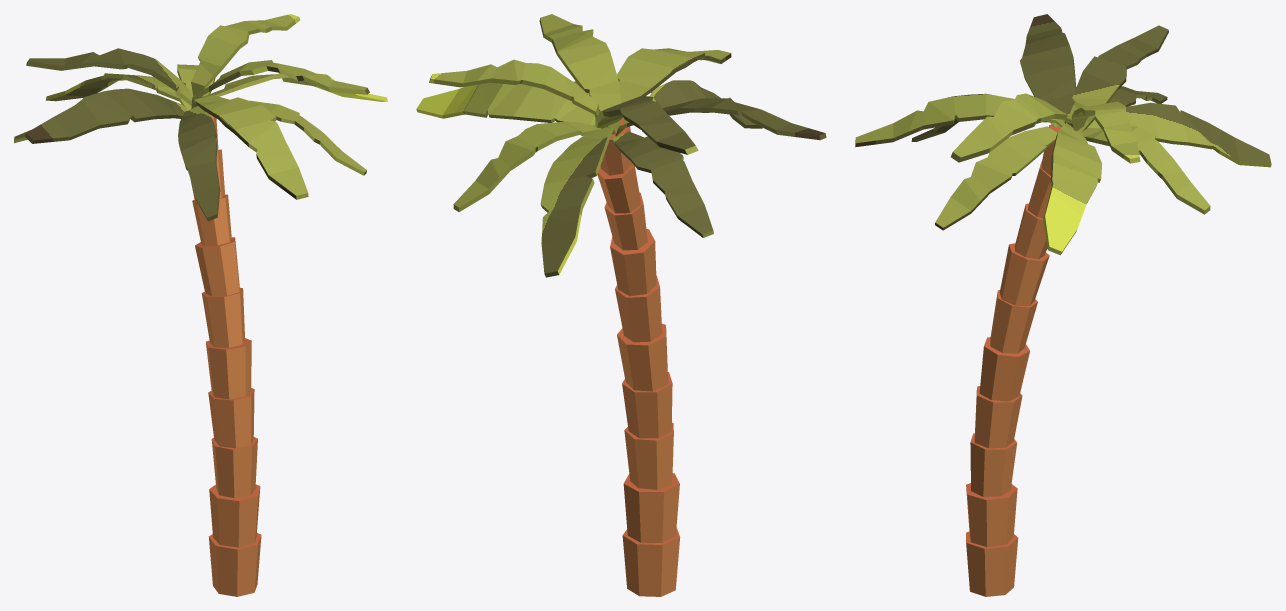
The model's file is Palm Tree 1.fbx.
3 renders of one model, left to right at view 1: azimuth 30°, elevation 25°; view 2: azimuth 150°, elevation 25°; view 3: azimuth 270°, elevation 25°, orthographic. The views are drawn at different scales.
Parts seen in each view (by area): view 1: Tree-1; view 2: Tree-1; view 3: Tree-1.
Part boxes in pixels (x1=…): Tree-1: x1=14, y1=14, x2=387, y2=596; Tree-1: x1=416, y1=14, x2=826, y2=596; Tree-1: x1=855, y1=14, x2=1271, y2=596.
Size of the model in its own units: 339 by 449 by 332.
